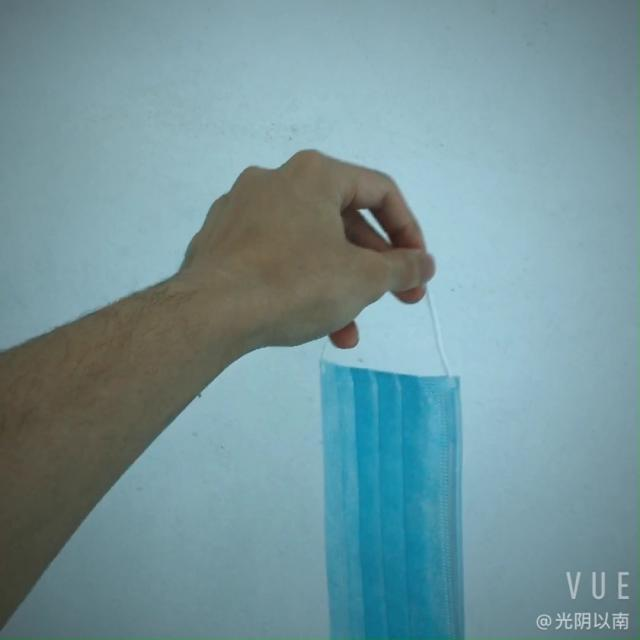face mask: (295, 334, 475, 636)
